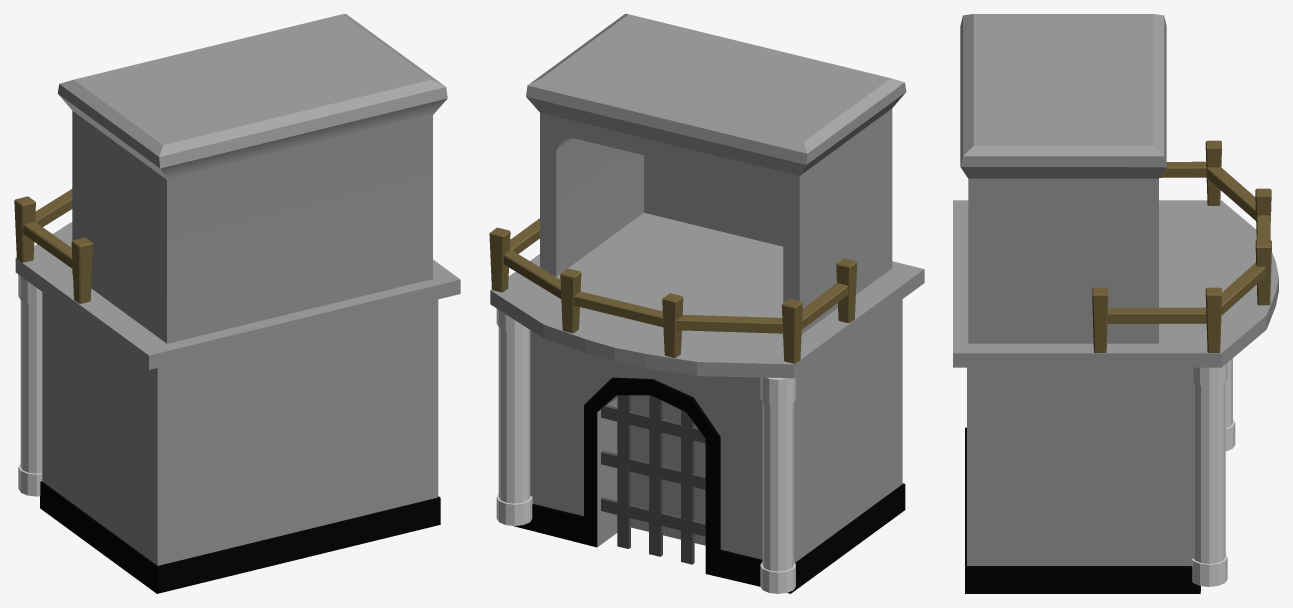
Rendered from Kings_Stand.fbx.
3 renders of one model, left to right at view 1: azimuth 30°, elevation 25°; view 2: azimuth 150°, elevation 25°; view 3: azimuth 270°, elevation 25°, orthographic. The views are drawn at different scales.
Parts seen in each view (by area): view 1: Kings_Stand; view 2: Kings_Stand; view 3: Kings_Stand.
Boxes of the visible parts, left/top/right/bottom form: Kings_Stand: left=14, top=14, right=460, bottom=593; Kings_Stand: left=489, top=14, right=924, bottom=593; Kings_Stand: left=953, top=14, right=1278, bottom=593.
Bounding box in the file's own units: 482 × 649 × 430.
